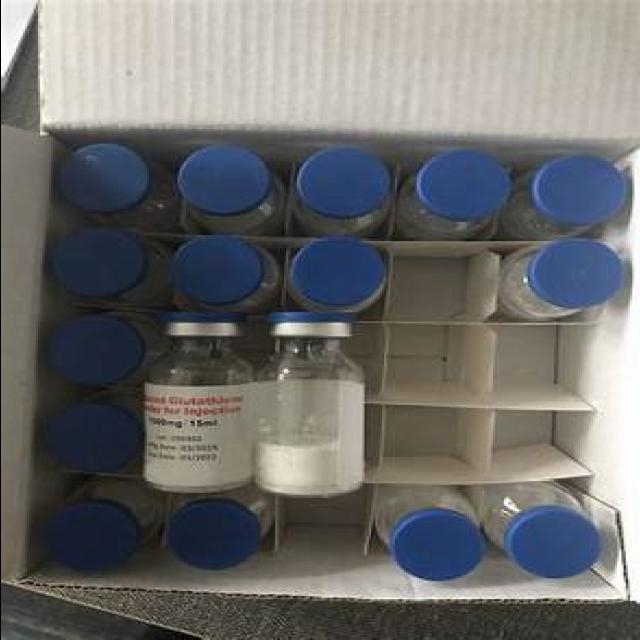vial: (51, 230, 155, 308), (175, 144, 279, 220), (286, 240, 383, 314), (49, 319, 152, 387), (532, 159, 626, 233), (300, 151, 394, 225), (41, 504, 140, 574), (501, 508, 606, 574), (47, 395, 131, 475), (422, 155, 514, 227), (166, 501, 258, 568), (64, 138, 152, 208), (541, 238, 621, 306), (396, 512, 478, 576), (177, 246, 267, 298), (260, 314, 352, 340), (170, 316, 242, 338)
